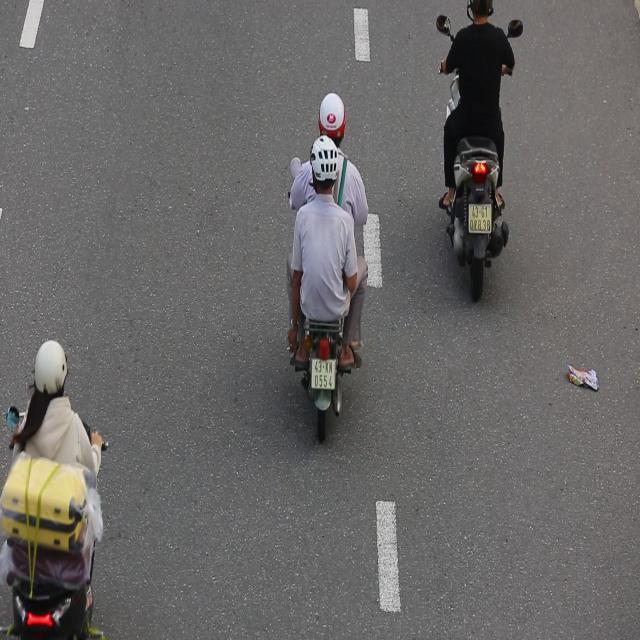motorbike: (263, 69, 379, 448)
